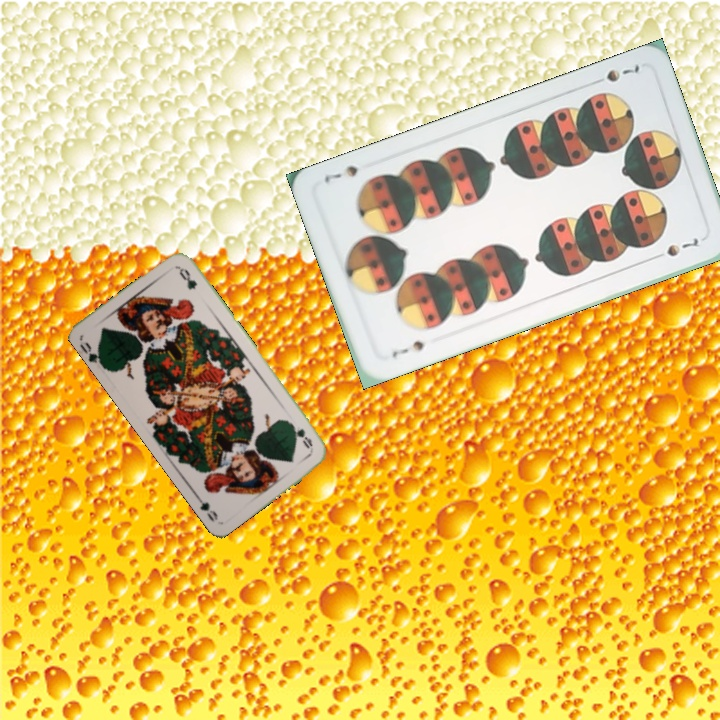GO: (77, 338, 107, 371), (285, 419, 315, 451)
S7: (587, 61, 642, 88), (387, 336, 426, 361)
